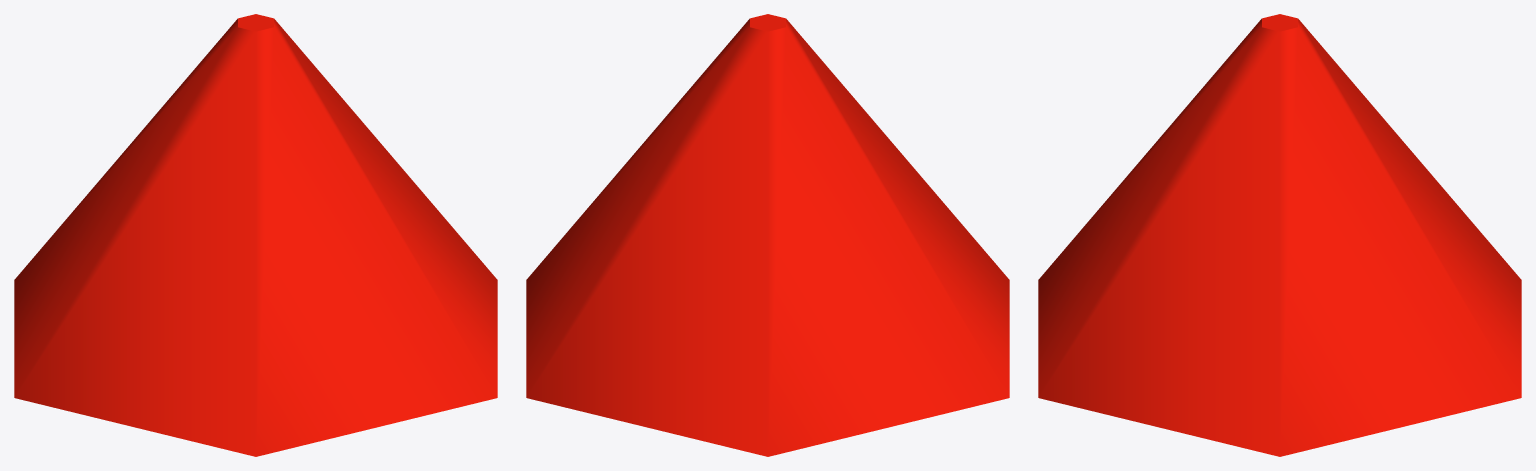
Rendered from Castle_Block_F_02.FBX.
The picture shows the model from 3 angles, left to right: view 1: azimuth 30°, elevation 25°; view 2: azimuth 150°, elevation 25°; view 3: azimuth 270°, elevation 25°; orthographic projection.
Parts seen in each view (by area): view 1: Castle_Block_F_02; view 2: Castle_Block_F_02; view 3: Castle_Block_F_02.
Boxes of the visible parts, x1,y1,x2,y2 form: Castle_Block_F_02: (14, 14, 497, 456); Castle_Block_F_02: (526, 14, 1009, 456); Castle_Block_F_02: (1038, 14, 1521, 456).
Size of the model in its own units: 40 by 25 by 34.64.
